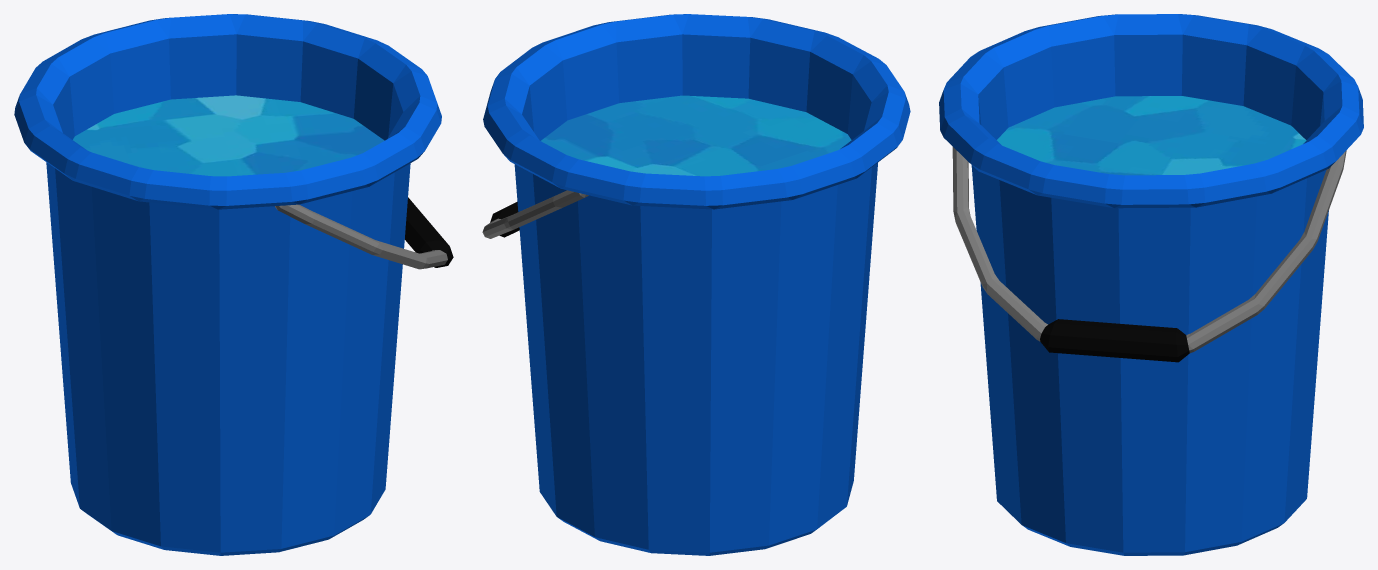
Rendered from eimer_wasser.glb.
The picture shows the model from 3 angles, left to right: view 1: azimuth 30°, elevation 25°; view 2: azimuth 150°, elevation 25°; view 3: azimuth 270°, elevation 25°; orthographic projection.
Visible parts, largest first — view 1: Bucket_water; view 2: Bucket_water; view 3: Bucket_water.
Part boxes in pixels (left/top/right/bottom): Bucket_water: left=14, top=14, right=453, bottom=555; Bucket_water: left=482, top=14, right=910, bottom=555; Bucket_water: left=939, top=14, right=1363, bottom=555.
Size of the model in its own units: 1.64 by 1.65 by 1.59.
4 materials, 1 textured.
